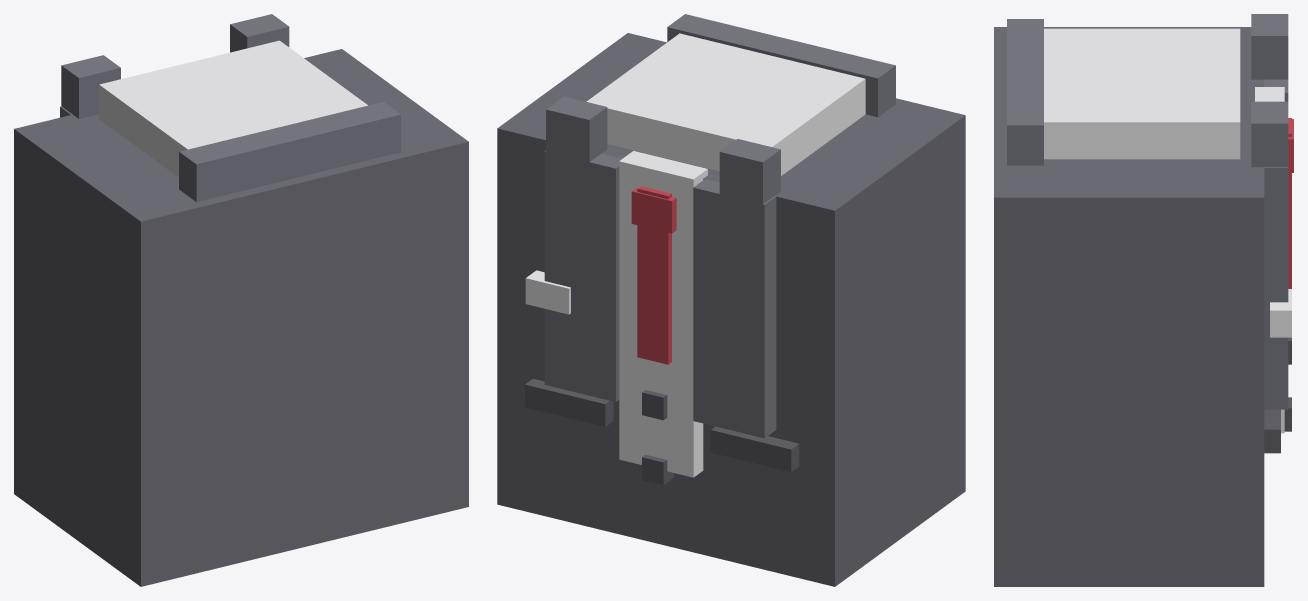
File: terno_tronco.glb
3 renders of one model, left to right at view 1: azimuth 30°, elevation 25°; view 2: azimuth 150°, elevation 25°; view 3: azimuth 270°, elevation 25°, orthographic. The views are drawn at different scales.
Parts seen in each view (by area): view 1: terno_tronco; view 2: terno_tronco; view 3: terno_tronco.
Part boxes in pixels (left/top/right/bottom): terno_tronco: left=14, top=14, right=468, bottom=586; terno_tronco: left=497, top=14, right=965, bottom=586; terno_tronco: left=994, top=14, right=1293, bottom=586.
Size of the model in its own units: 0.545 by 0.645 by 0.405.
